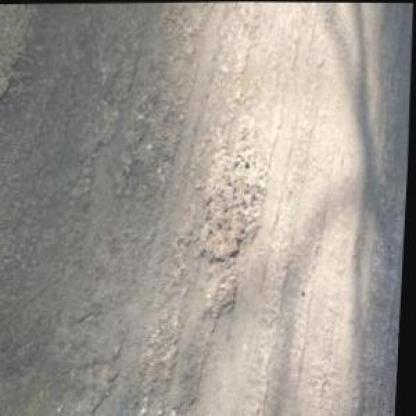pothole: (200, 147, 266, 265), (201, 264, 241, 316)
